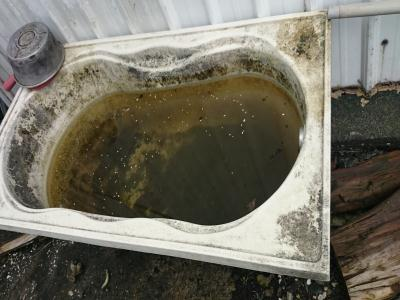bowl: (3, 19, 67, 93)
tub: (2, 6, 334, 286)
